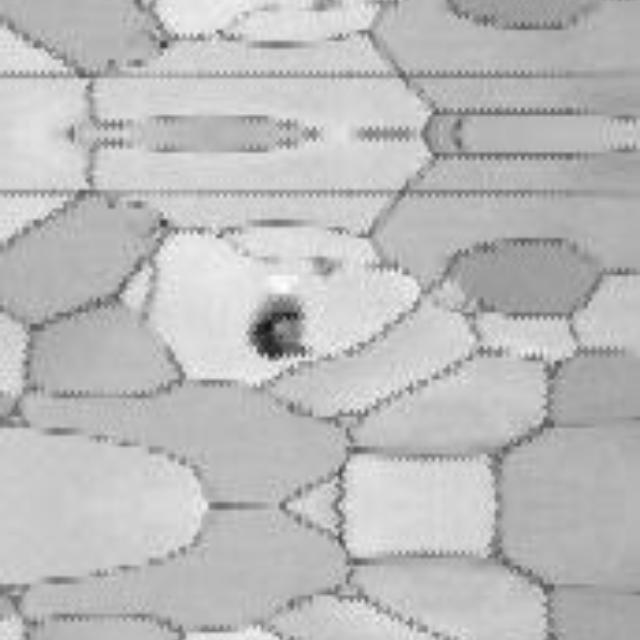good_void: (247, 295, 312, 361)
